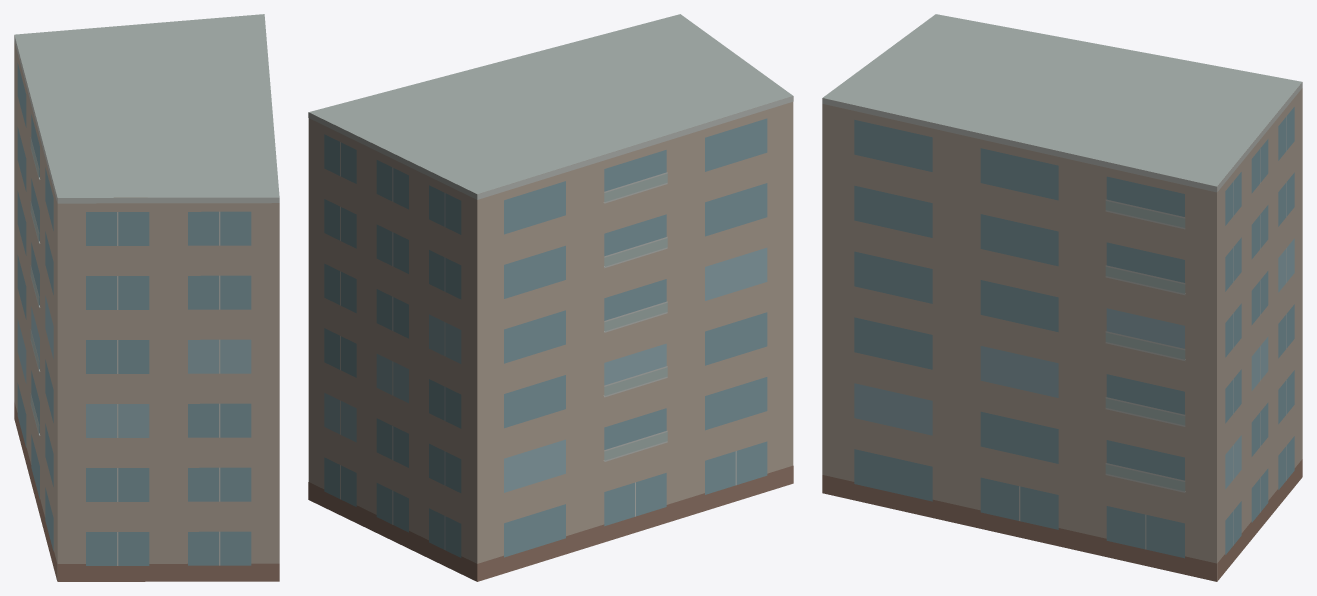
File: survey-upis-32988153.glb
3 views of the same model, side by side, from view 1: azimuth 30°, elevation 25°; view 2: azimuth 150°, elevation 25°; view 3: azimuth 270°, elevation 25° (orthographic). The views are drawn at different scales.
Visible parts, largest first — view 1: survey-upis-32988153.tmp; view 2: survey-upis-32988153.tmp; view 3: survey-upis-32988153.tmp.
Part boxes in pixels (x1,y1,x2,y2): survey-upis-32988153.tmp: (14, 14, 279, 581); survey-upis-32988153.tmp: (308, 14, 793, 581); survey-upis-32988153.tmp: (822, 14, 1302, 581).
Bounding box in the file's own units: 15.51 × 16.55 × 18.23.
